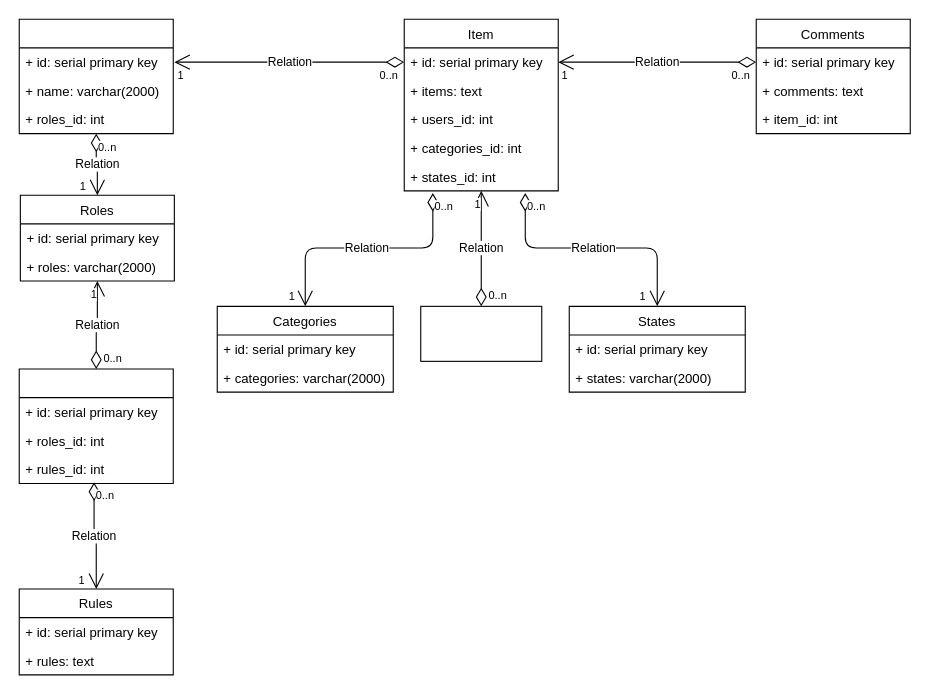
Some shapes in this 930 by 697 pixel diagram are drawn without their labels. Each missing label, with the box of its shape:
Attachs: (420, 305, 542, 361)
Role - Rules: (18, 368, 173, 483)
Users: (18, 18, 173, 134)
